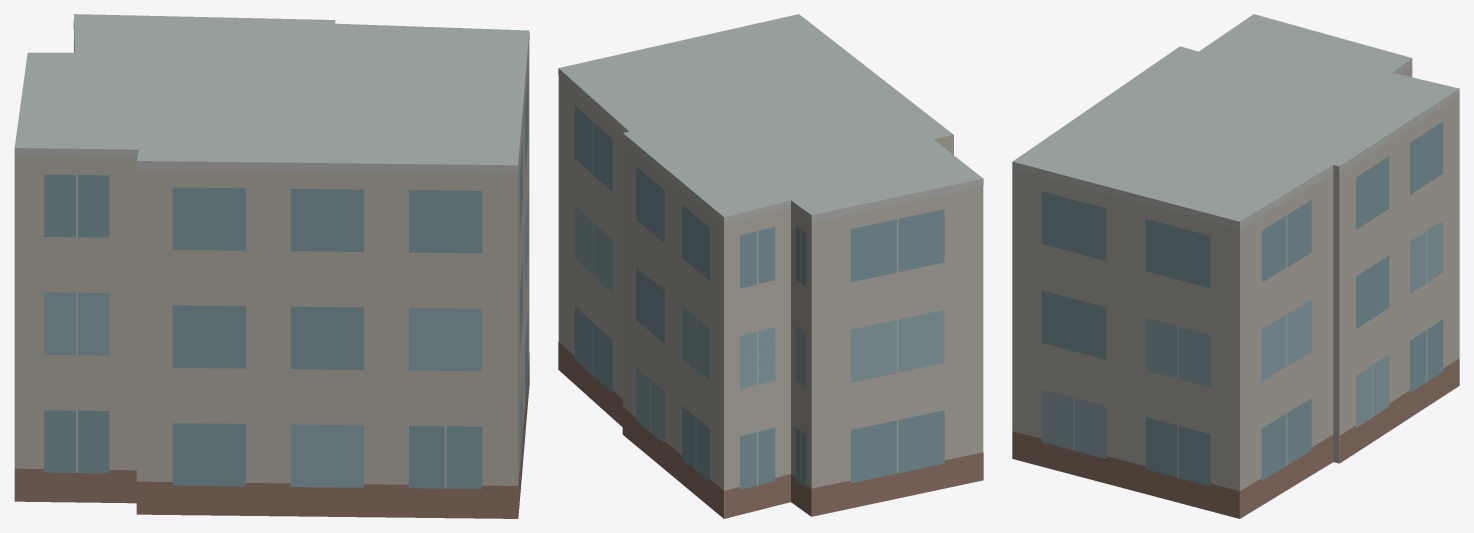
Rendered from survey-upis-32654303.glb.
3 renders of one model, left to right at view 1: azimuth 30°, elevation 25°; view 2: azimuth 150°, elevation 25°; view 3: azimuth 270°, elevation 25°, orthographic. The views are drawn at different scales.
Parts seen in each view (by area): view 1: survey-upis-32654303.tmp; view 2: survey-upis-32654303.tmp; view 3: survey-upis-32654303.tmp.
Boxes of the visible parts, bbox=[...] form: survey-upis-32654303.tmp: bbox=[14, 14, 529, 518]; survey-upis-32654303.tmp: bbox=[558, 14, 983, 518]; survey-upis-32654303.tmp: bbox=[1012, 14, 1459, 518].
Bounding box in the file's own units: 15.45 × 10.3 × 14.06.
